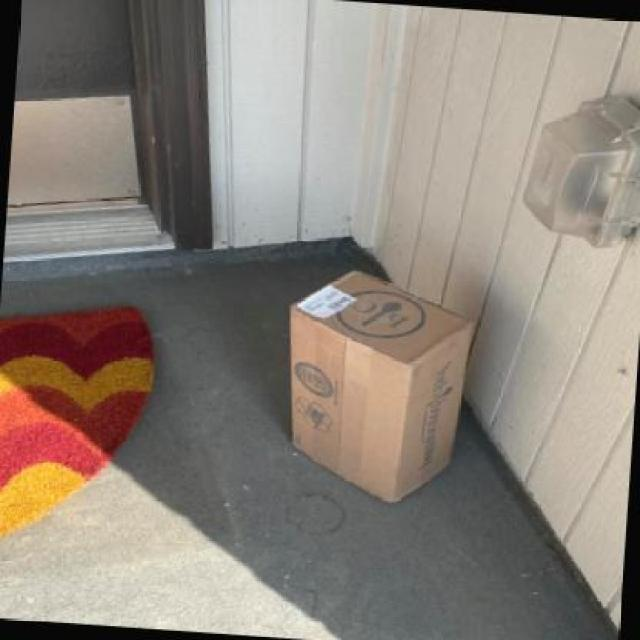box: (286, 271, 475, 504)
